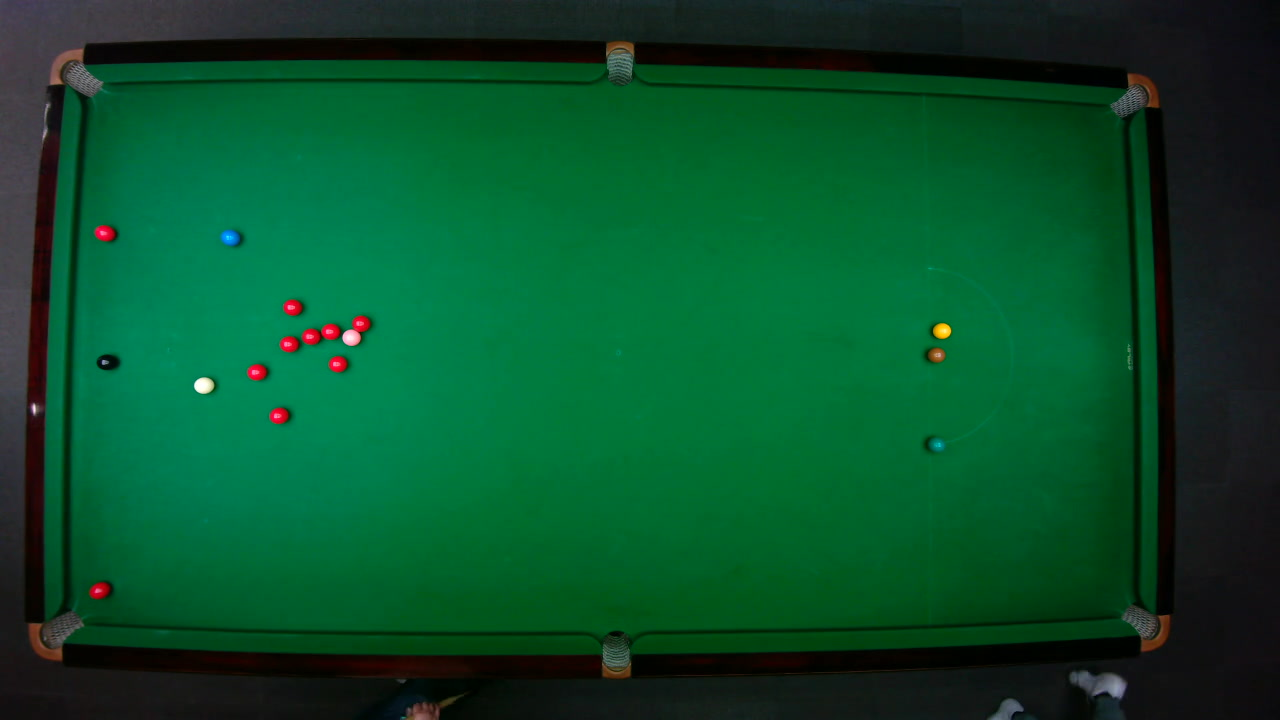bag: (26, 608, 85, 660), (47, 47, 104, 97), (1118, 602, 1171, 651), (1108, 72, 1160, 119), (601, 629, 630, 679), (605, 39, 633, 86)
black: (95, 353, 117, 370)
blue: (219, 228, 240, 246)
brown: (925, 346, 945, 362)
green: (926, 435, 945, 452)
pink: (340, 328, 362, 346)
red: (93, 223, 116, 242), (88, 580, 111, 599), (277, 334, 300, 352), (327, 354, 348, 373), (267, 406, 289, 424), (245, 362, 267, 380), (350, 314, 371, 332), (300, 327, 321, 345), (281, 298, 303, 315), (320, 322, 340, 339)
white: (192, 375, 215, 394)
yellow: (931, 321, 952, 338)
zone: (926, 265, 1014, 444)
